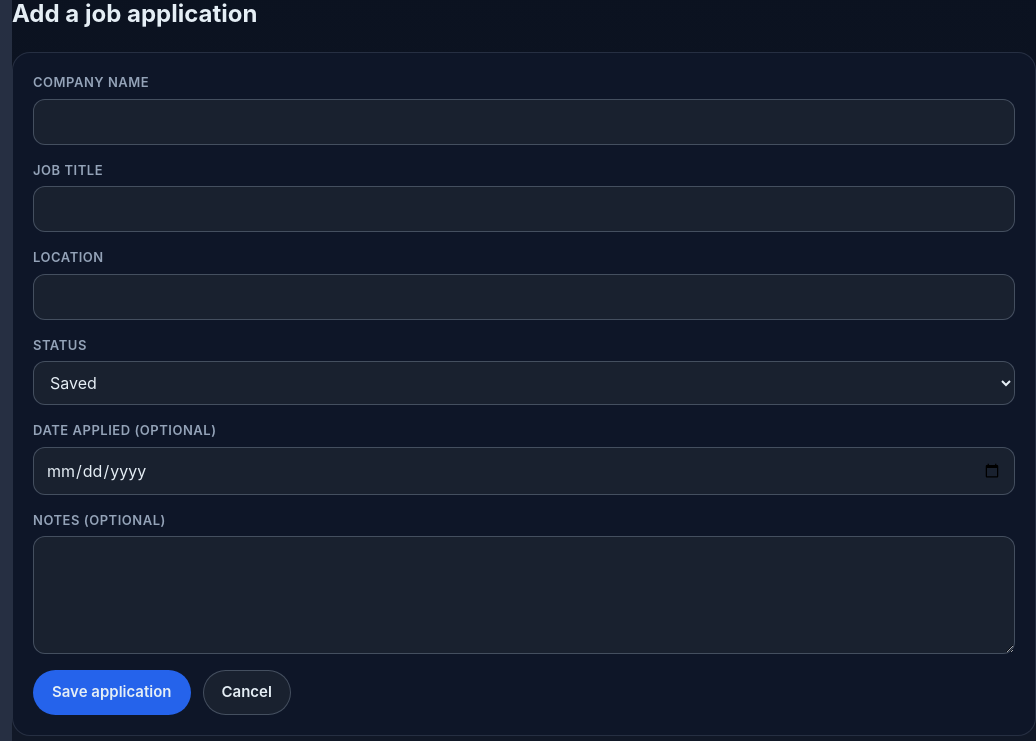
Test: repository errors reach the user with their own message › names the newer app version when the stored format is ahead of this build
Type "Fishermend" into the field labelled "Company name" at point(524, 122), box [33,99,1015,145]
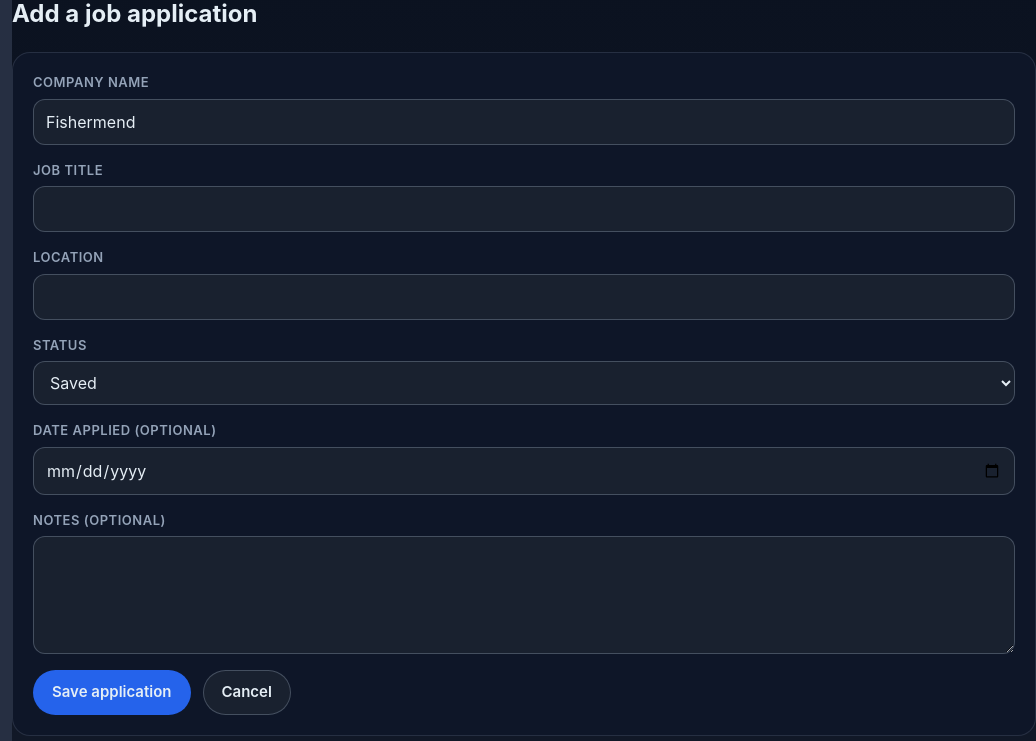
Type "Frontend Engineer" into the field labelled "Job title" at point(524, 209), box [33,186,1015,232]
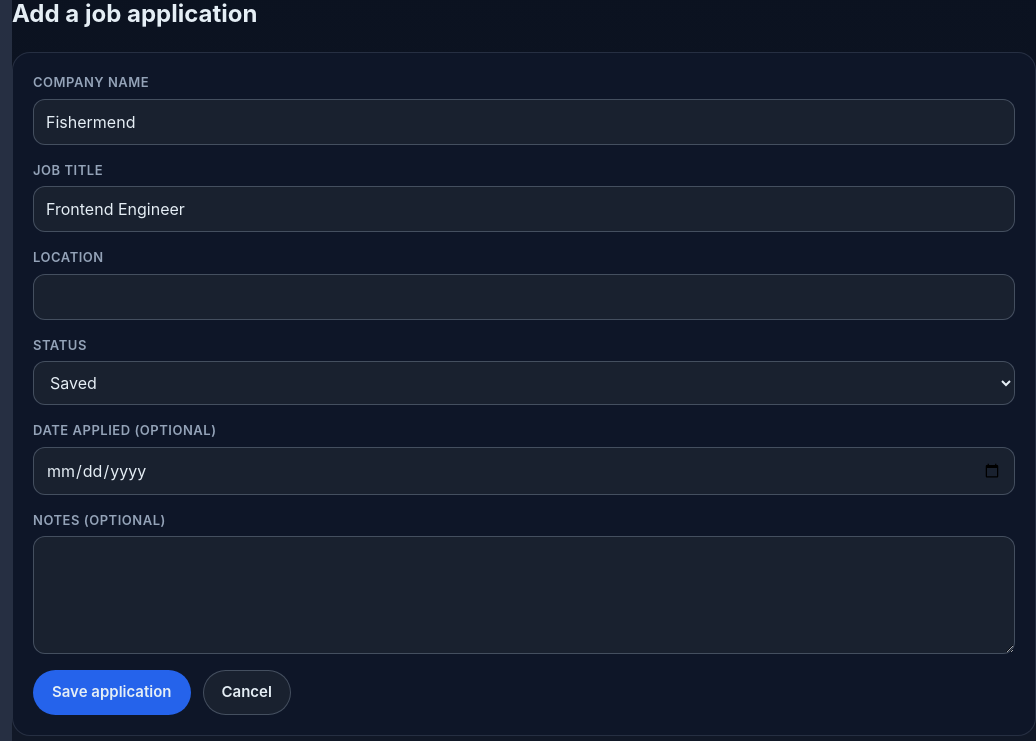
Type "Auckland, NZ" into the field labelled "Location" at point(524, 297), box [33,274,1015,320]
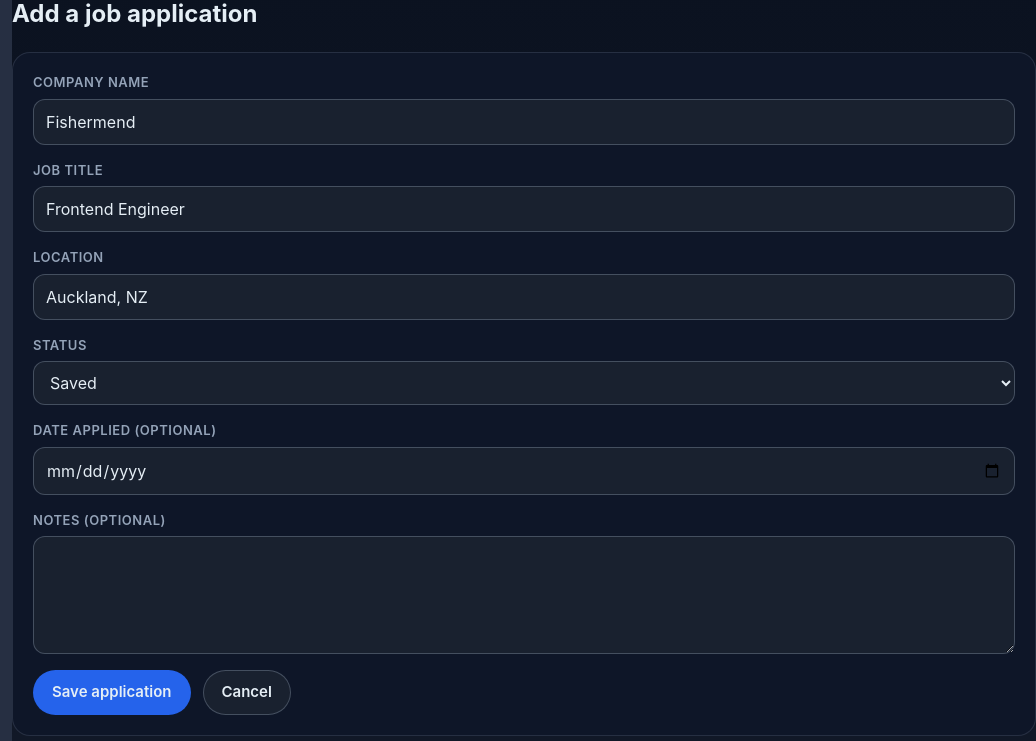
Click the button "Save application" at point(112, 692), box [33,670,190,715]
(page scrolled)
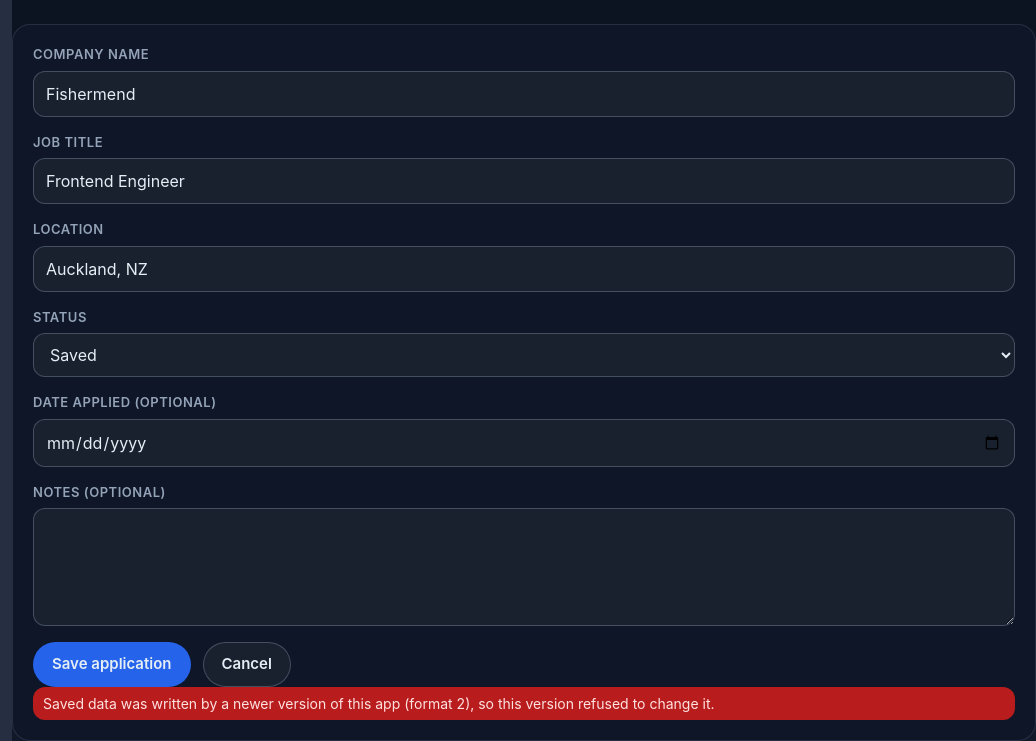
Expected: the text "format 2" is shown, [43,695,714,712]
